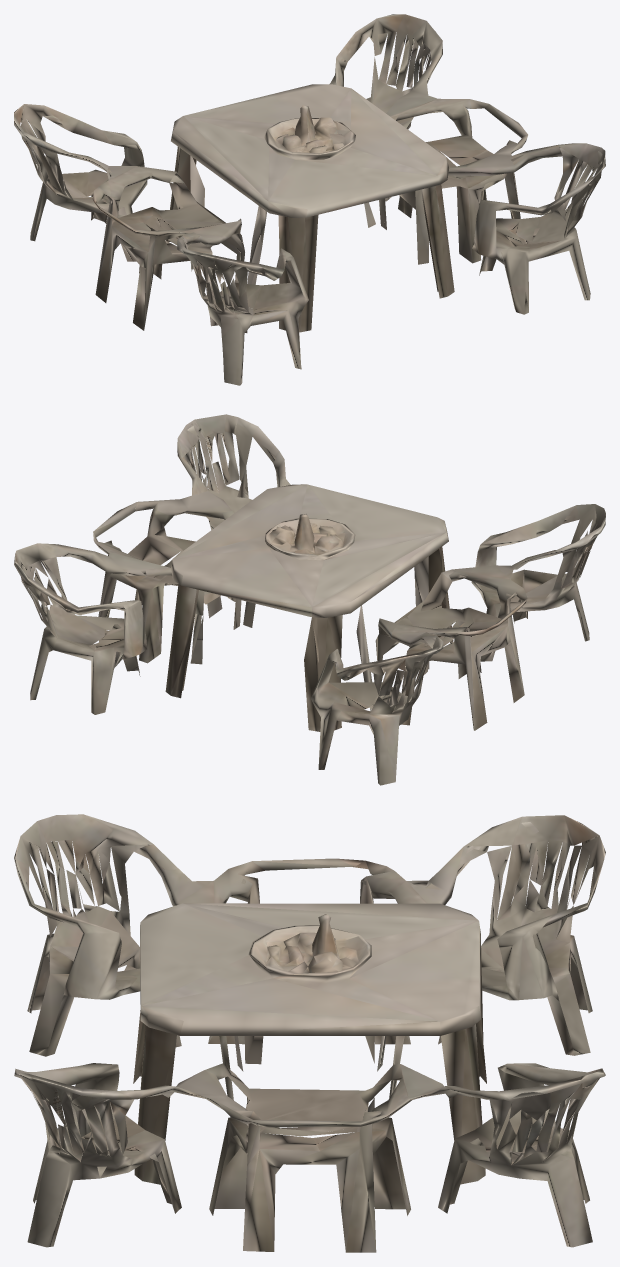
The model's file is plastic_table.glb.
The picture shows the model from 3 angles, top to bottom: view 1: azimuth 30°, elevation 25°; view 2: azimuth 150°, elevation 25°; view 3: azimuth 270°, elevation 25°; orthographic projection. The views are drawn at different scales.
Size of the model in its own units: 1.9 by 0.6837 by 1.72.
Materials: 1 (1 with a texture image).
